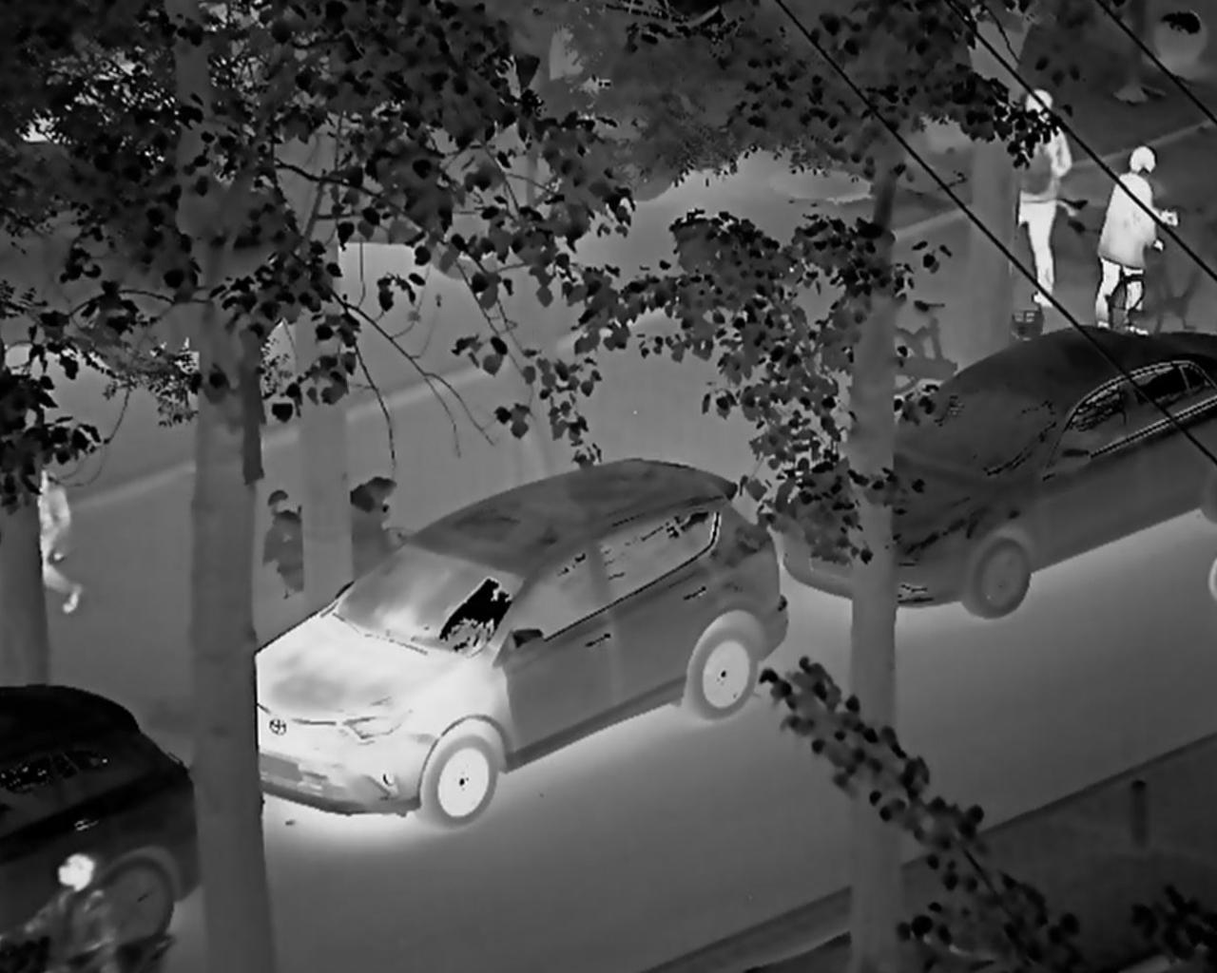person: (1097, 131, 1169, 340), (1020, 85, 1079, 337), (36, 455, 96, 634)
